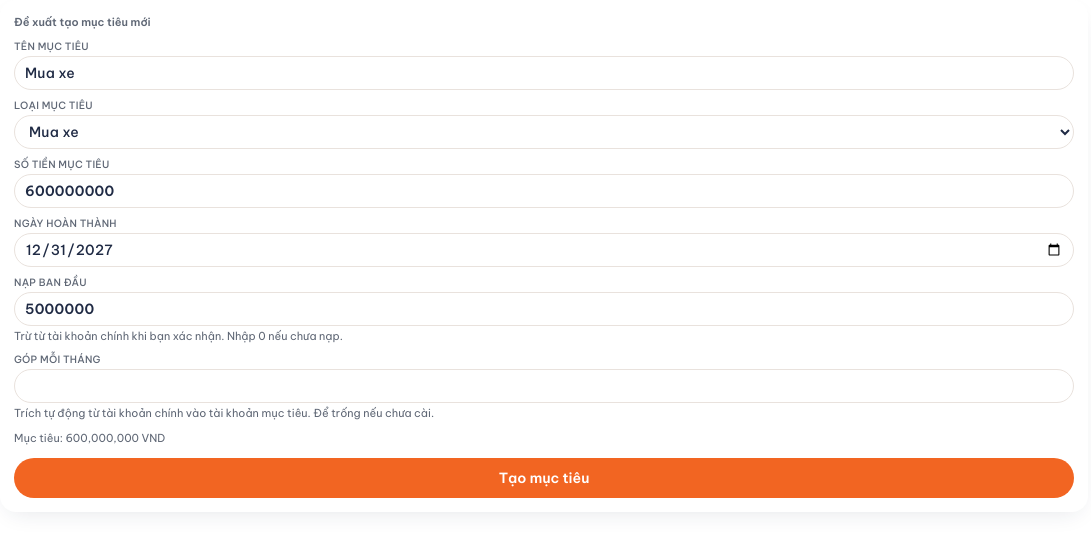
Test case: AgentGoalCreateCard › refuses an empty amount or deposit
The width and height of the screenshot is (1091, 556).
Step 1. Clear the field labelled "Số tiền mục tiêu" → (544, 190), box [14,174,1074,208]
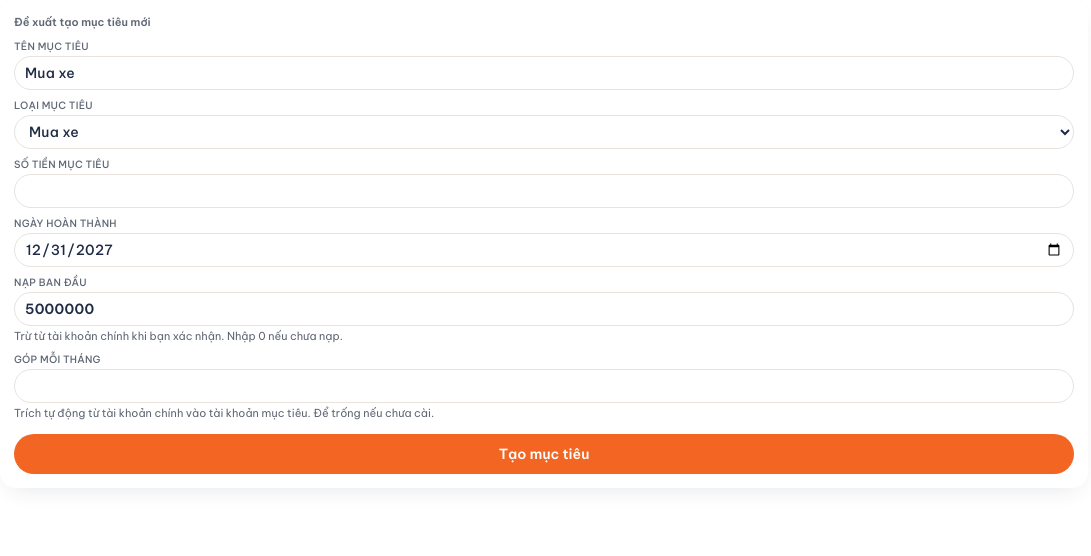
Step 2. Click the button "Tạo mục tiêu" → (544, 454), box [14,434,1074,474]
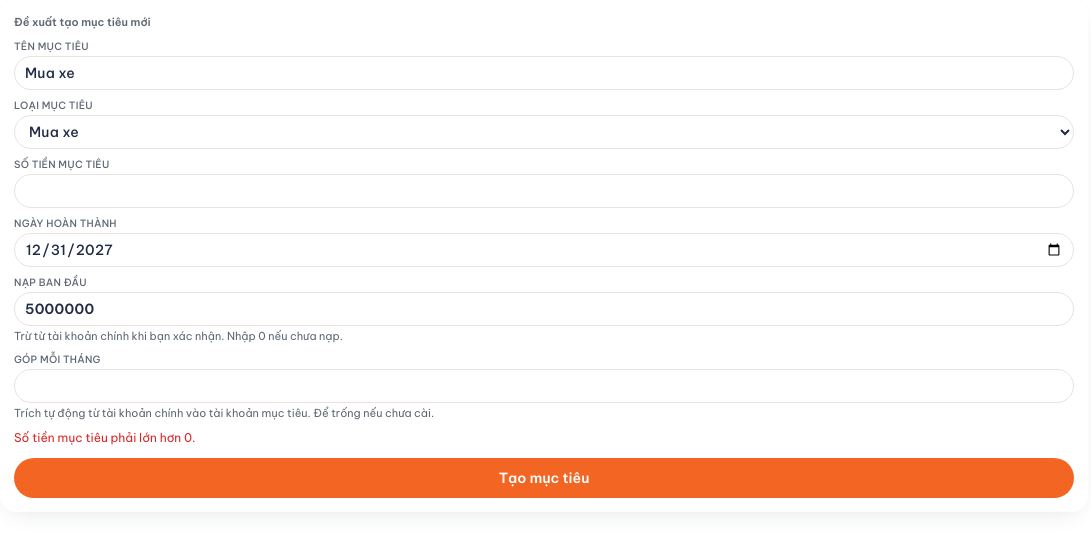
Check: the message shows "lớn hơn 0", box [14,430,196,444]
Step 3. Type "1000" into the field labelled "Số tiền mục tiêu" → (544, 190), box [14,174,1074,208]
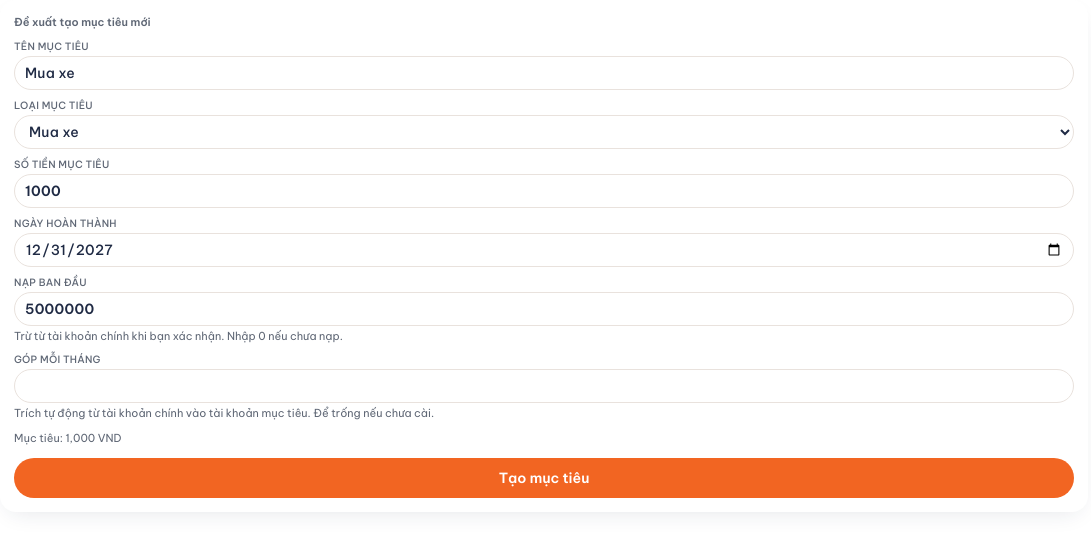
Step 4. Clear the field labelled "Nạp ban đầu" → (544, 308), box [14,292,1074,326]
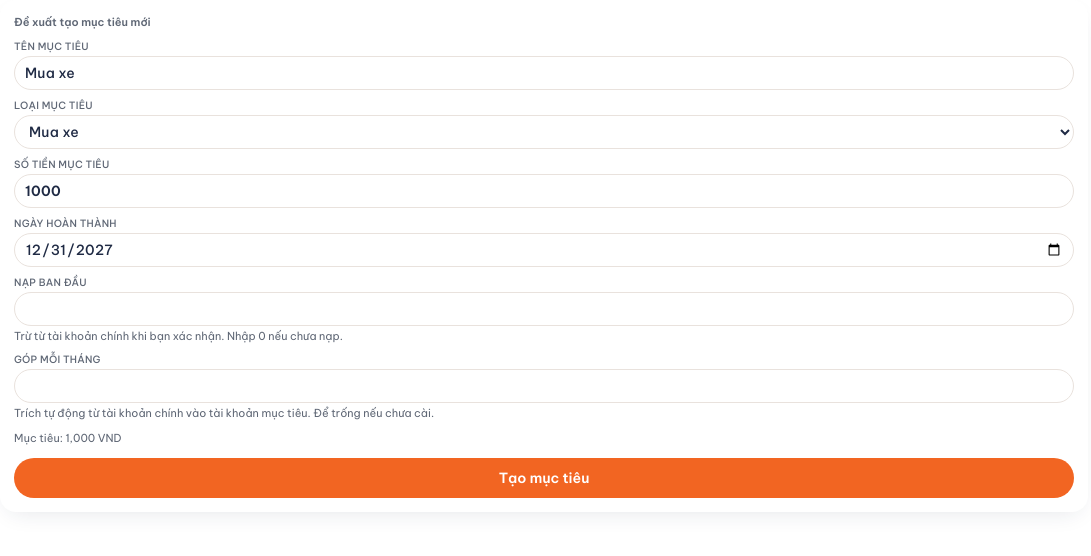
Step 5. Click the button "Tạo mục tiêu" → (544, 478), box [14,458,1074,498]
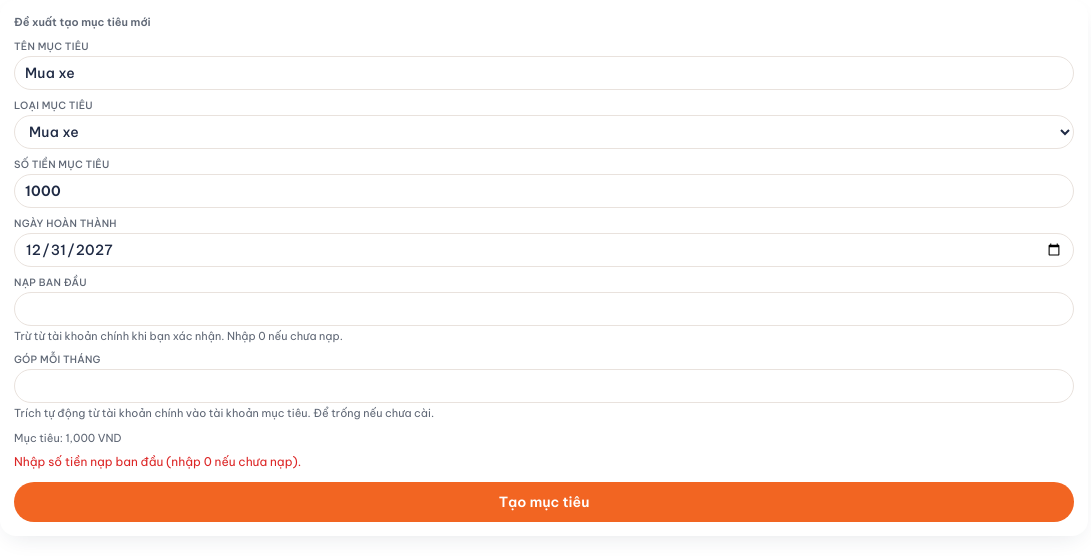
Check: the message shows "nạp ban đầu", box [14,454,301,469]
